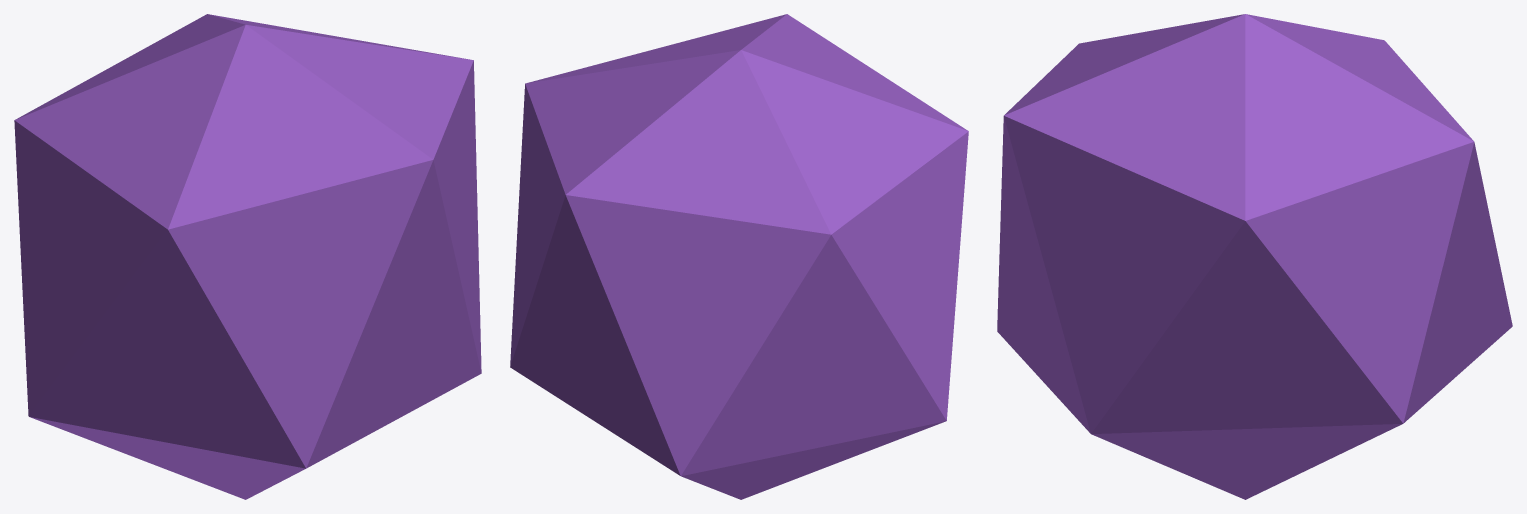
The model's file is rock_1.glb.
3 views of the same model, side by side, from view 1: azimuth 30°, elevation 25°; view 2: azimuth 150°, elevation 25°; view 3: azimuth 270°, elevation 25° (orthographic). The views are drawn at different scales.
Visible parts, largest first — view 1: rock_1; view 2: rock_1; view 3: rock_1.
Part boxes in pixels (x1=…): rock_1: x1=14, y1=14, x2=481, y2=499; rock_1: x1=510, y1=14, x2=968, y2=499; rock_1: x1=997, y1=14, x2=1512, y2=499.
Size of the model in its own units: 0.9022 by 0.92 by 0.8848.
